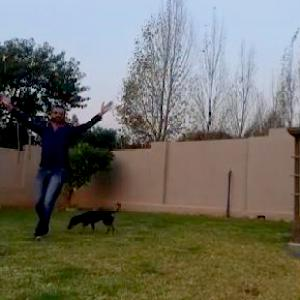takeoff: (0, 93, 114, 244)
